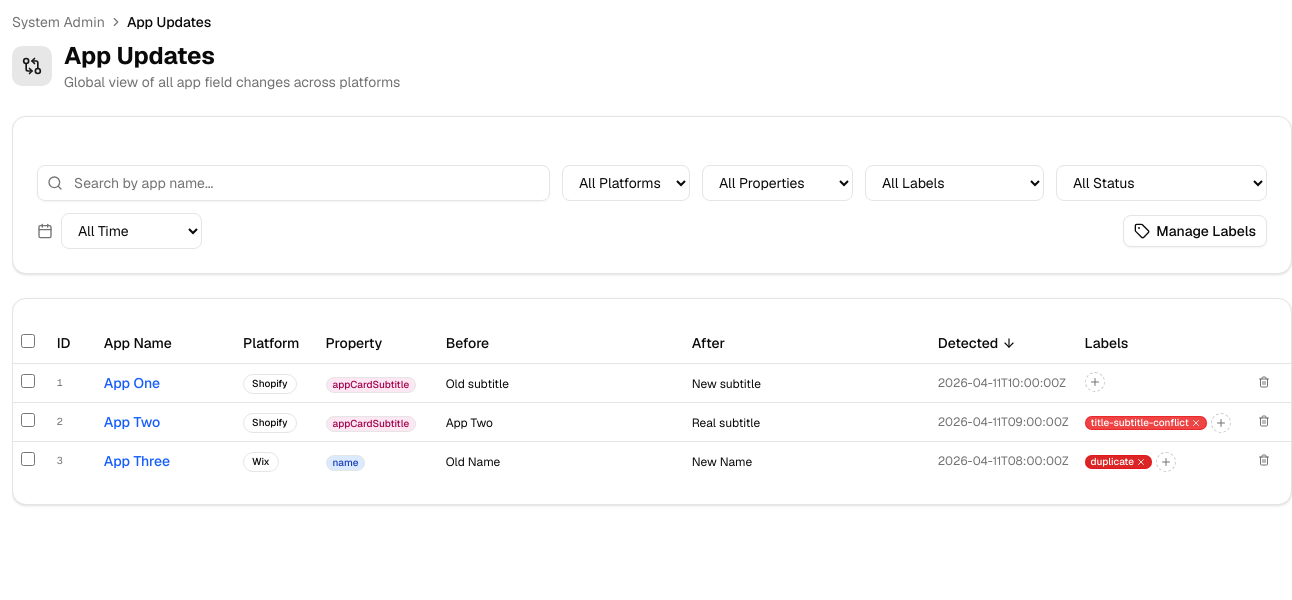
Test: AppUpdatesPage — bulk operations › shows Restore Selected button only when dismissed items are selected
Expected: the link "App One" is shown, top-left (104, 374), bottom-right (160, 392)
# Select first row (not dismissed)
Click the checkbox in the row of "App One".
click(28, 381)  # box top-left (21, 374), bottom-right (35, 388)
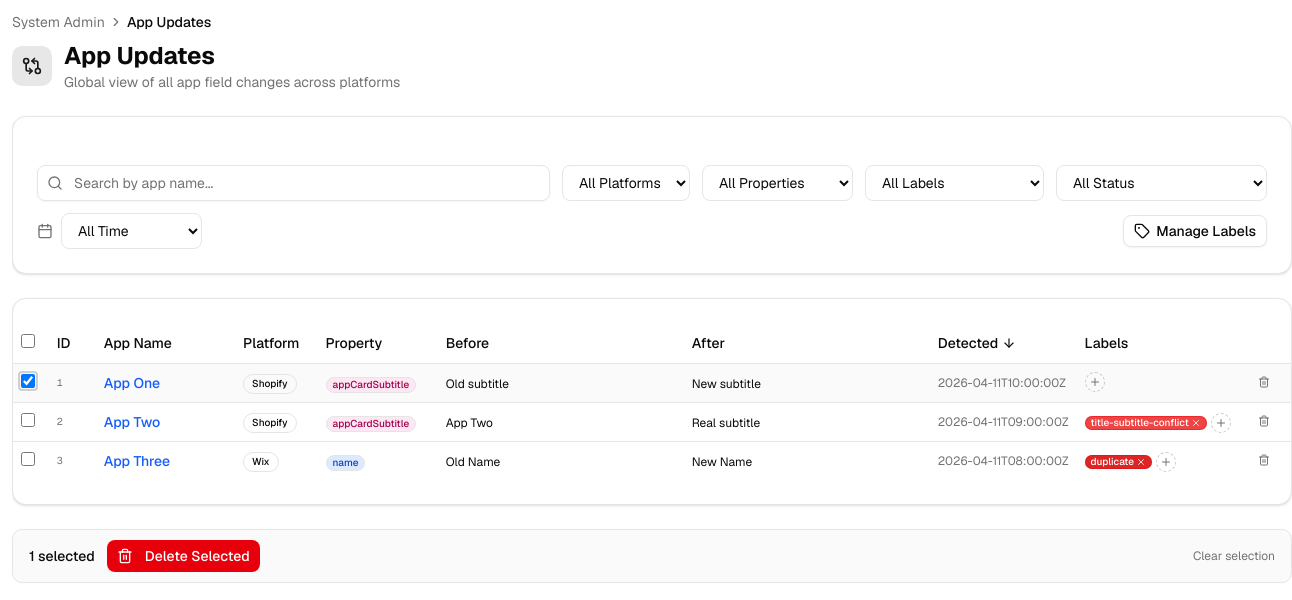
Expected: the text "Restore Selected" is not shown
# Also select second row (dismissed)
Click the checkbox in the row of "Real subtitle".
click(28, 420)  # box top-left (21, 413), bottom-right (35, 427)
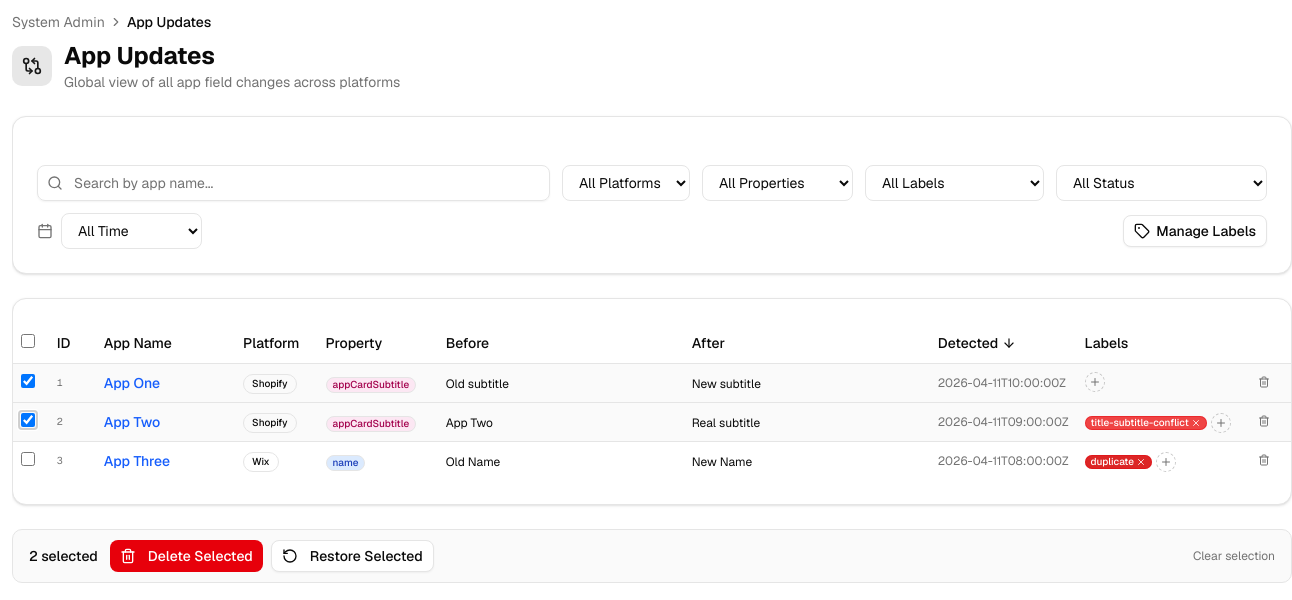
Now the button "Restore Selected" is shown, box top-left (271, 540), bottom-right (434, 572)
